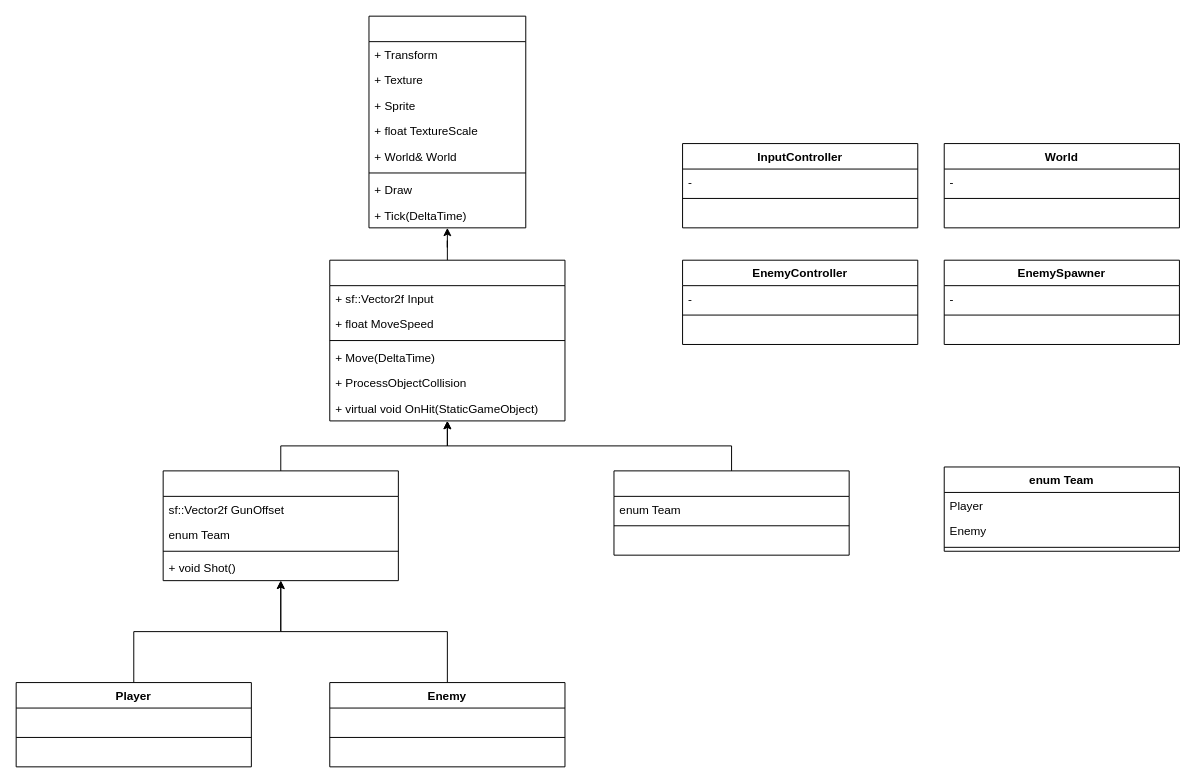
Image size: 1196x783. Some labels were removed from this diagram. Each missing label, with the box of its shape:
Character: (162, 470, 398, 581)
MovableGameObject: (329, 259, 565, 421)
Projectile: (613, 470, 849, 555)
StaticGameObject: (368, 15, 526, 228)
